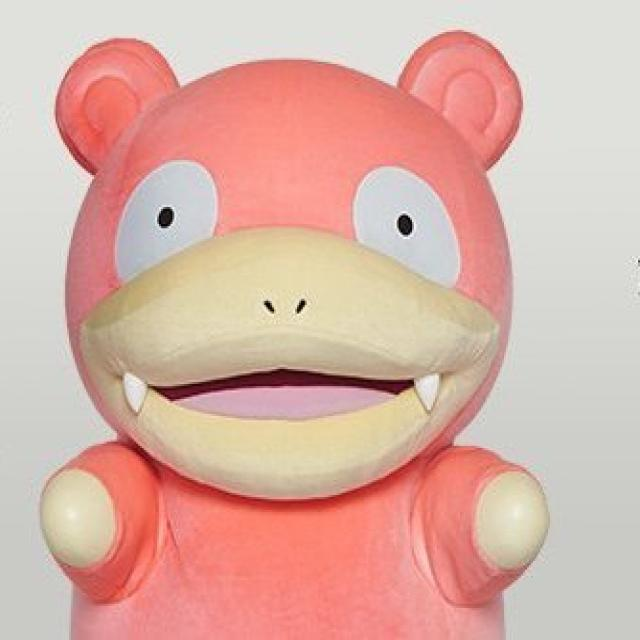Slowpoke: (52, 28, 534, 640)
